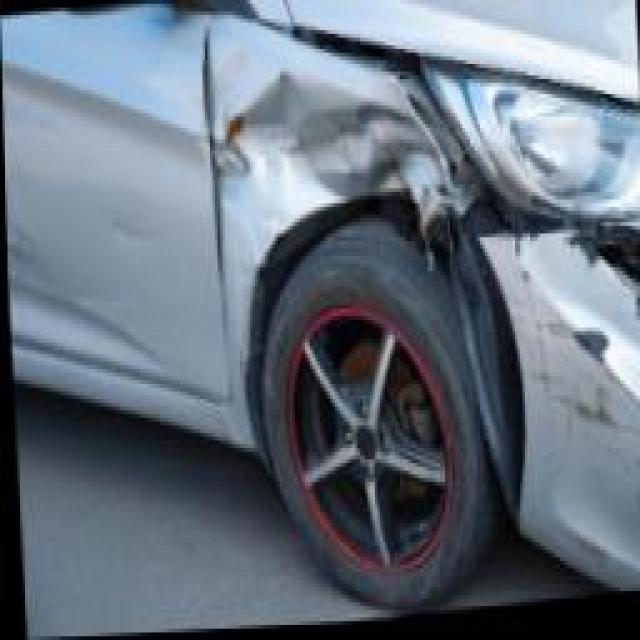Bumper: (490, 230, 639, 571)
Fender: (205, 0, 439, 258)
